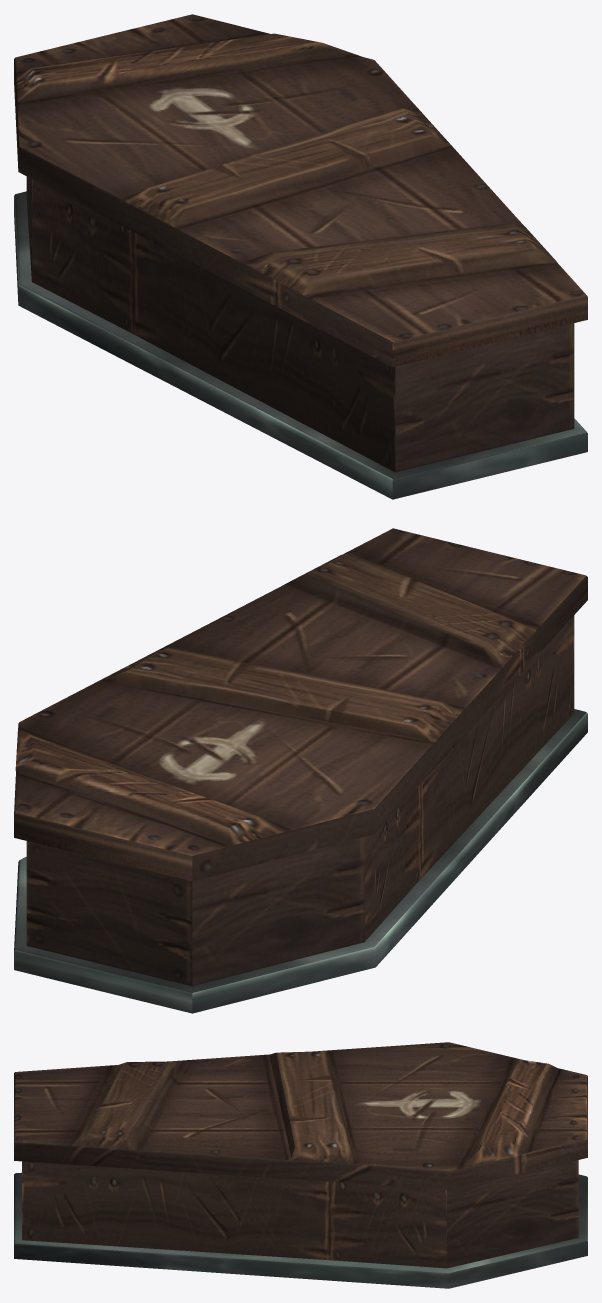
File: coffin.FBX
3 renders of one model, top to bottom at view 1: azimuth 30°, elevation 25°; view 2: azimuth 150°, elevation 25°; view 3: azimuth 270°, elevation 25°, orthographic. The views are drawn at different scales.
Parts seen in each view (by area): view 1: coffin; view 2: coffin; view 3: coffin.
Boxes of the visible parts, box(x1,y1,x2,y2) form: coffin: box(14, 14, 587, 499); coffin: box(14, 528, 587, 1013); coffin: box(14, 1042, 587, 1288).
Size of the model in its own units: 27.12 by 12.21 by 50.88.
Materials: 1 (1 with a texture image).
